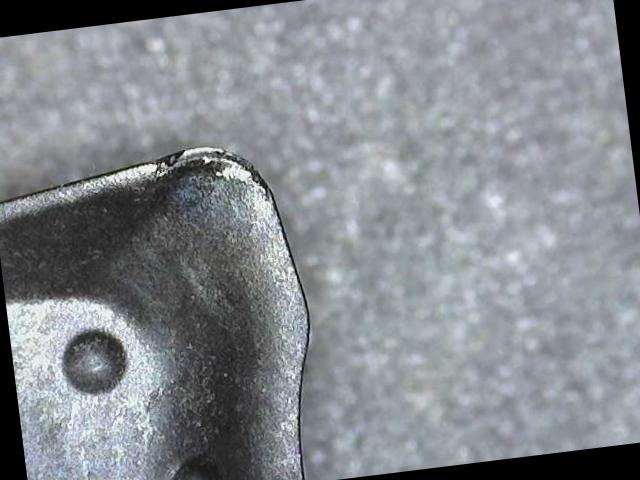normal: (252, 194, 305, 480), (0, 162, 156, 229)
wear: (158, 147, 273, 202)
